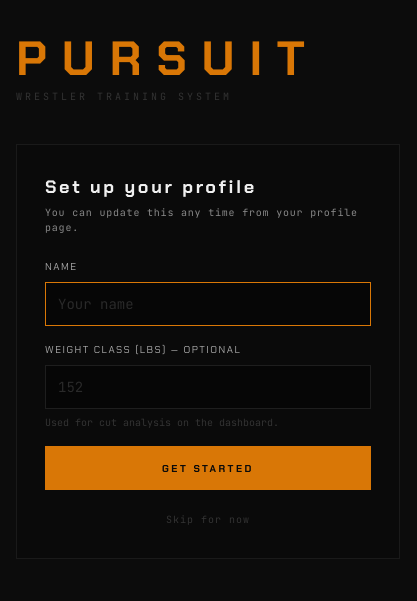
it: ProfileSetup › error path — shows error when update fails
This screenshot has width=417, height=601.
Expected: the text "Set up your profile" is shown, [45,175,257,199]
Type "Test" into the field with placeholder "Your name" at (208, 304), box [45,282,371,326]
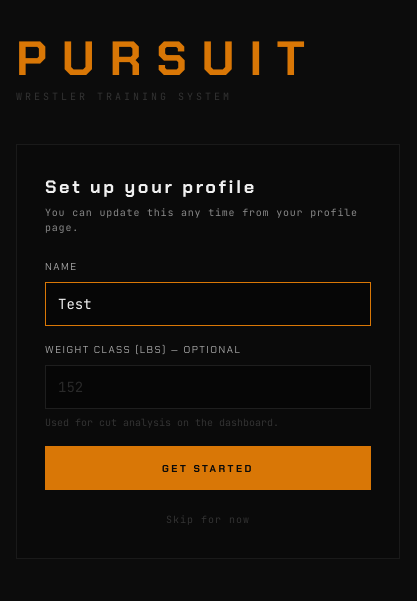
Click the button "GET STARTED" at (208, 468), box [45,446,371,490]
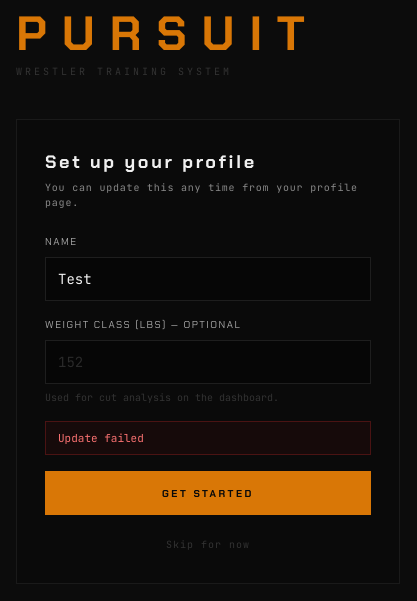
Now the text "Update failed" is shown, box [45,421,371,455]
